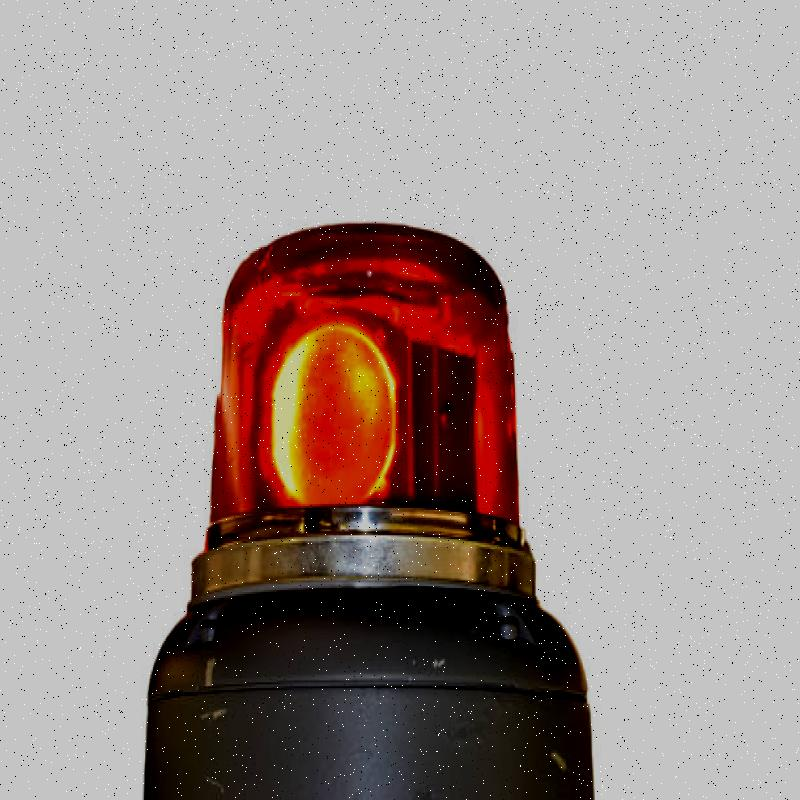AmbulanceSiren: (176, 207, 529, 800)
